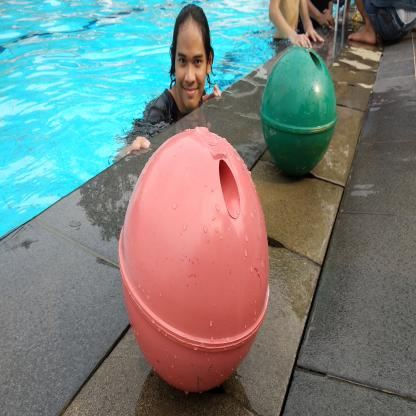green_buoy: (259, 39, 339, 181)
red_buoy: (112, 129, 269, 402)
